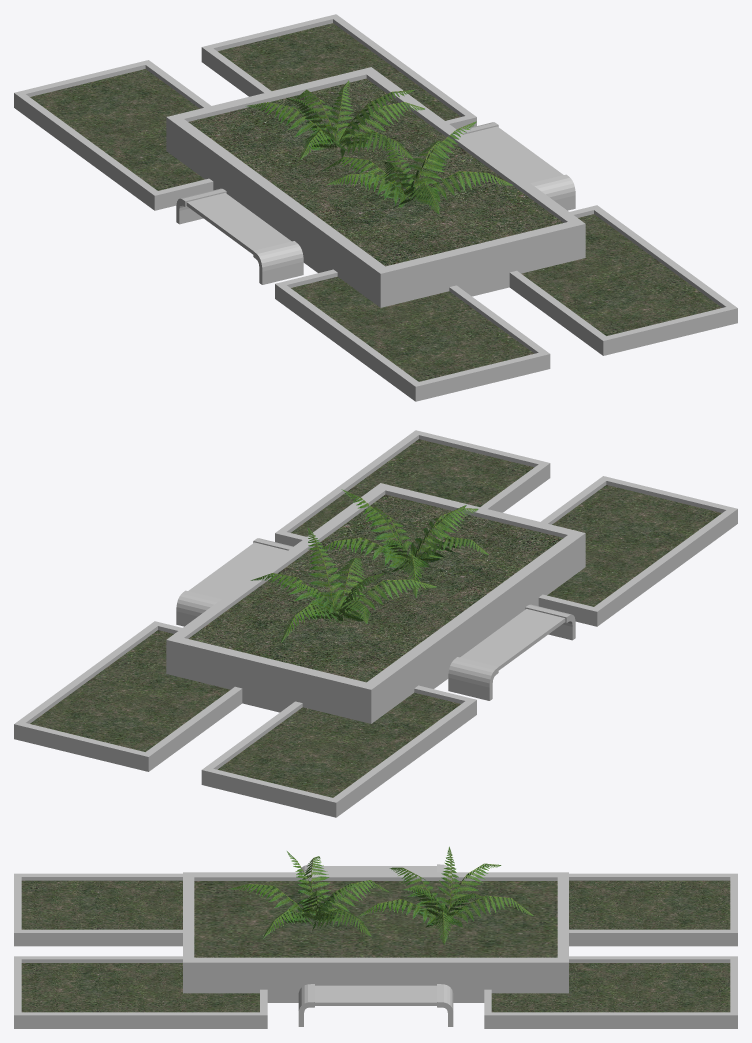
Rendered from Garden-02.fbx.
3 renders of one model, top to bottom at view 1: azimuth 30°, elevation 25°; view 2: azimuth 150°, elevation 25°; view 3: azimuth 270°, elevation 25°, orthographic. The views are drawn at different scales.
Visible parts, largest first — view 1: Garden-02-Grass, Garden-02; view 2: Garden-02-Grass, Garden-02; view 3: Garden-02-Grass, Garden-02.
Boxes of the visible parts, <box> form: Garden-02-Grass: <box>30,23,721,381</box>; Garden-02: <box>14,14,737,401</box>; Garden-02-Grass: <box>30,439,721,797</box>; Garden-02: <box>14,430,737,817</box>; Garden-02-Grass: <box>21,880,730,1012</box>; Garden-02: <box>14,846,737,1028</box>.
Size of what is drawn, in the model's own units: 5.84 by 1.76 by 12.6.
